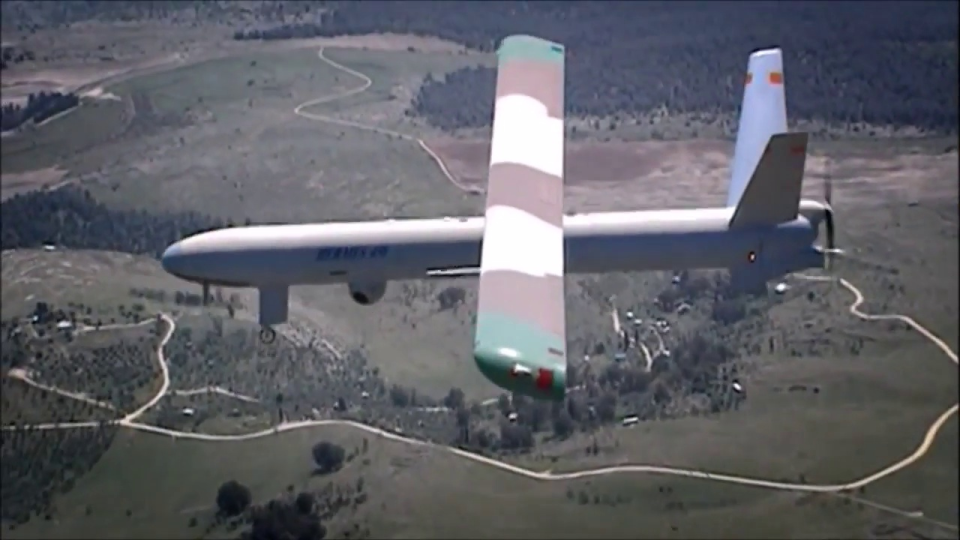military drone: (160, 32, 844, 401)
